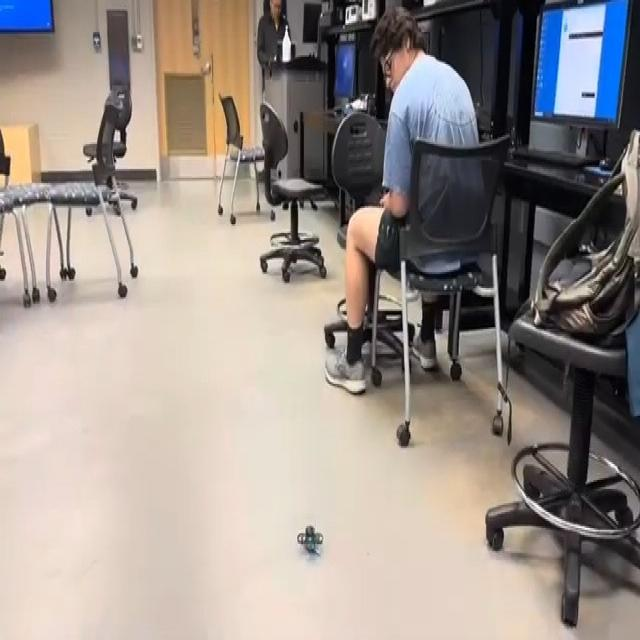drone: (286, 506, 330, 574)
